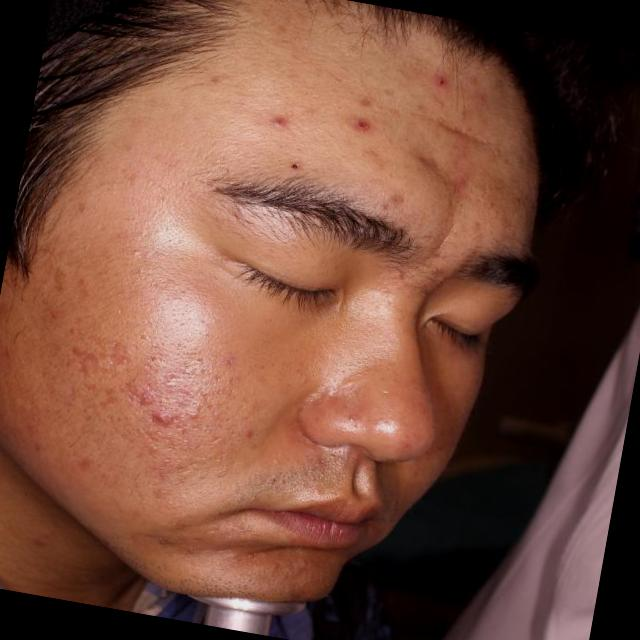acne: (344, 111, 380, 143), (126, 383, 168, 408), (148, 405, 176, 433), (390, 261, 412, 290), (428, 71, 458, 91), (259, 107, 282, 133)
